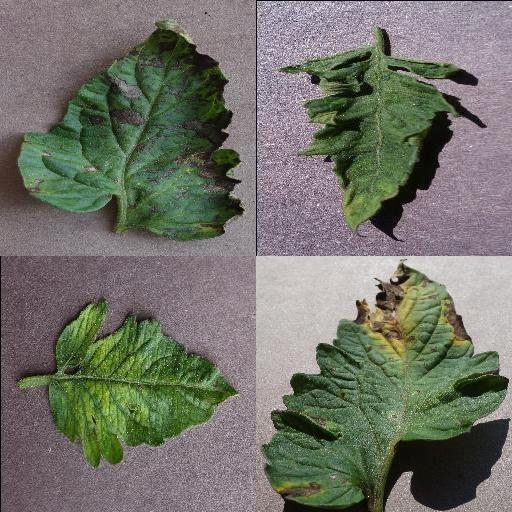Early Blight: (264, 264, 508, 510), (17, 16, 247, 244)
Mosaic Virus: (277, 47, 465, 237), (48, 296, 240, 470)
